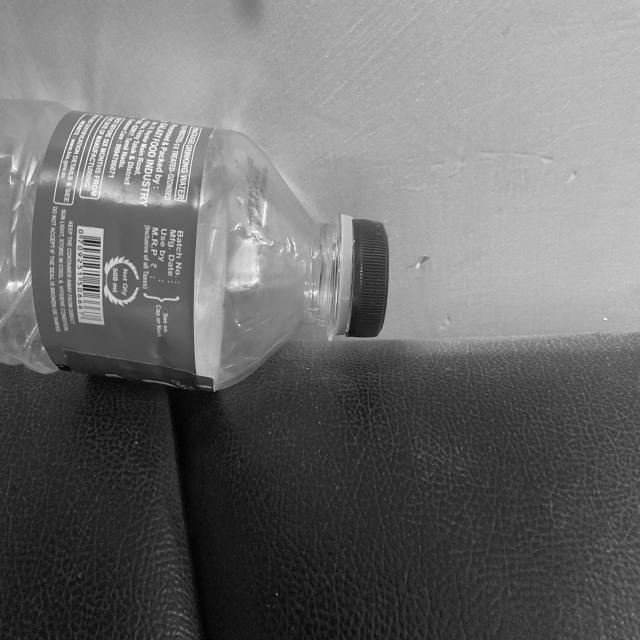Good-cap-Df0S: (332, 208, 392, 350)
